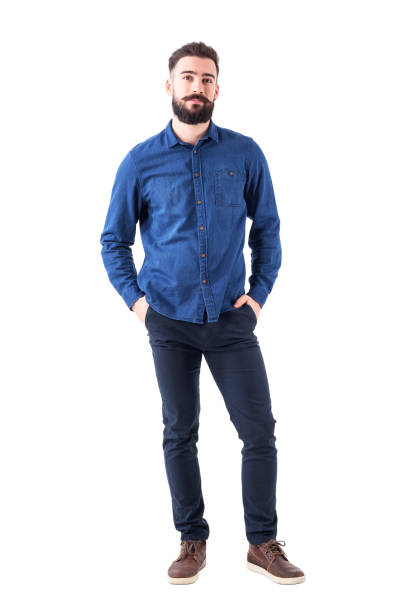Male: (87, 38, 330, 594)
